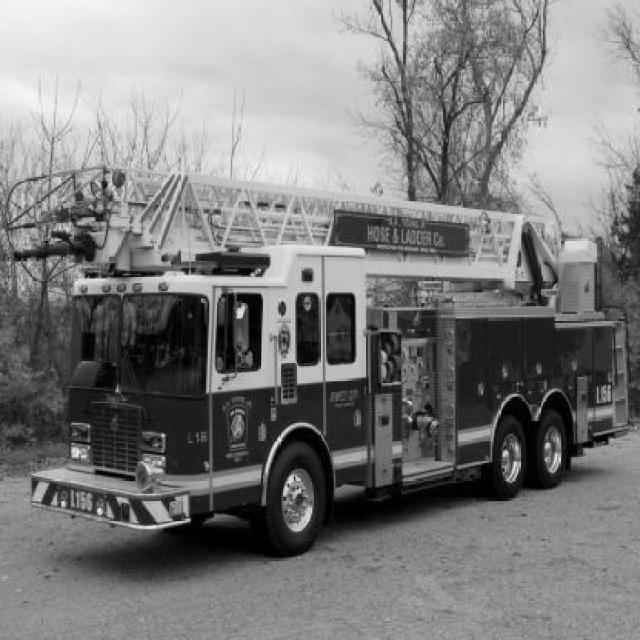Fire Truck: (0, 165, 629, 558)
